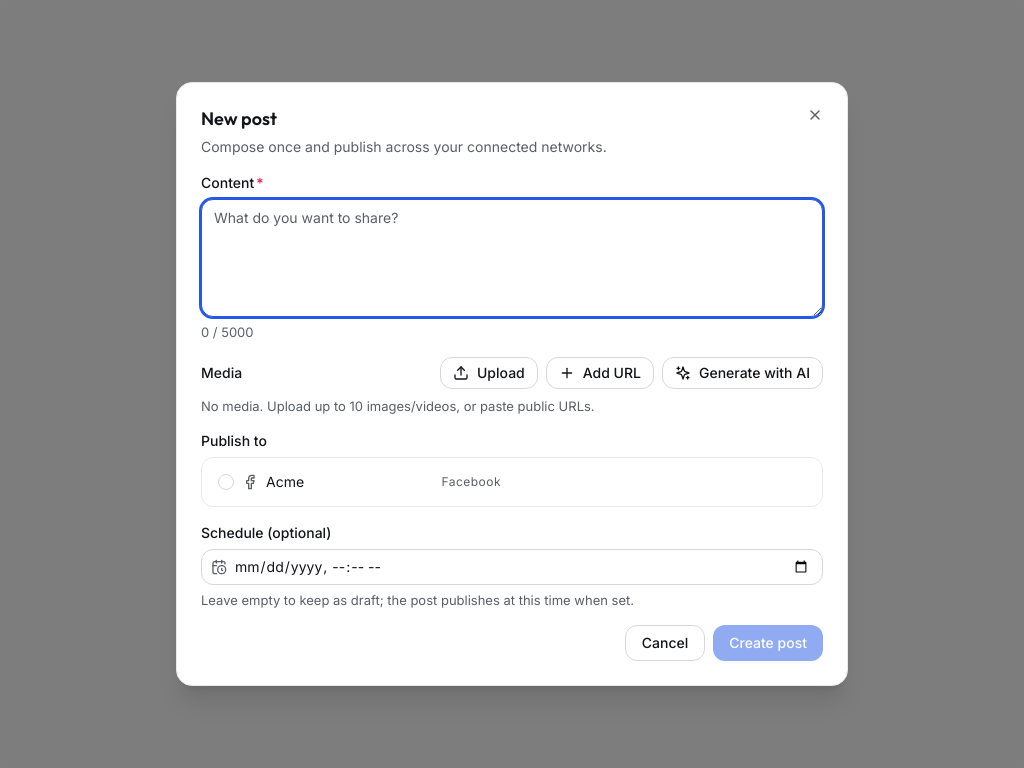
PostComposerDialog AI generate › generating in the AI panel appends a READY asset to the media list
Click the button "Generate with AI" at (742, 373), box [662, 357, 823, 389]
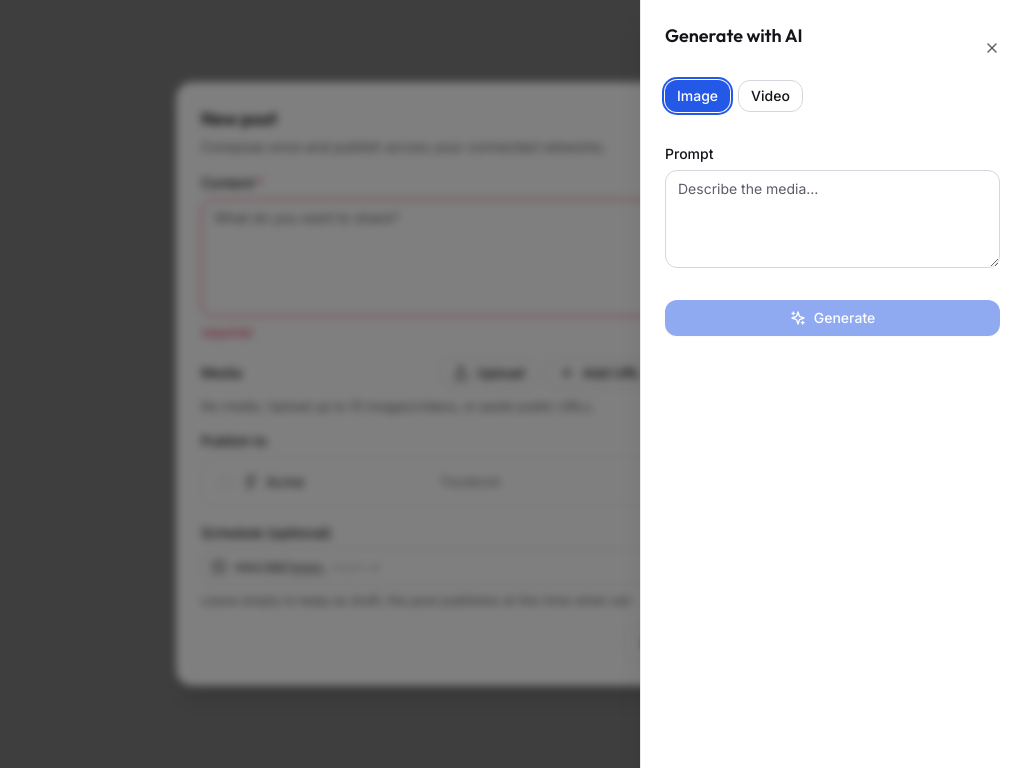
Type "a sunset" into the text box labelled "Prompt" at (832, 219), box [665, 170, 1000, 268]
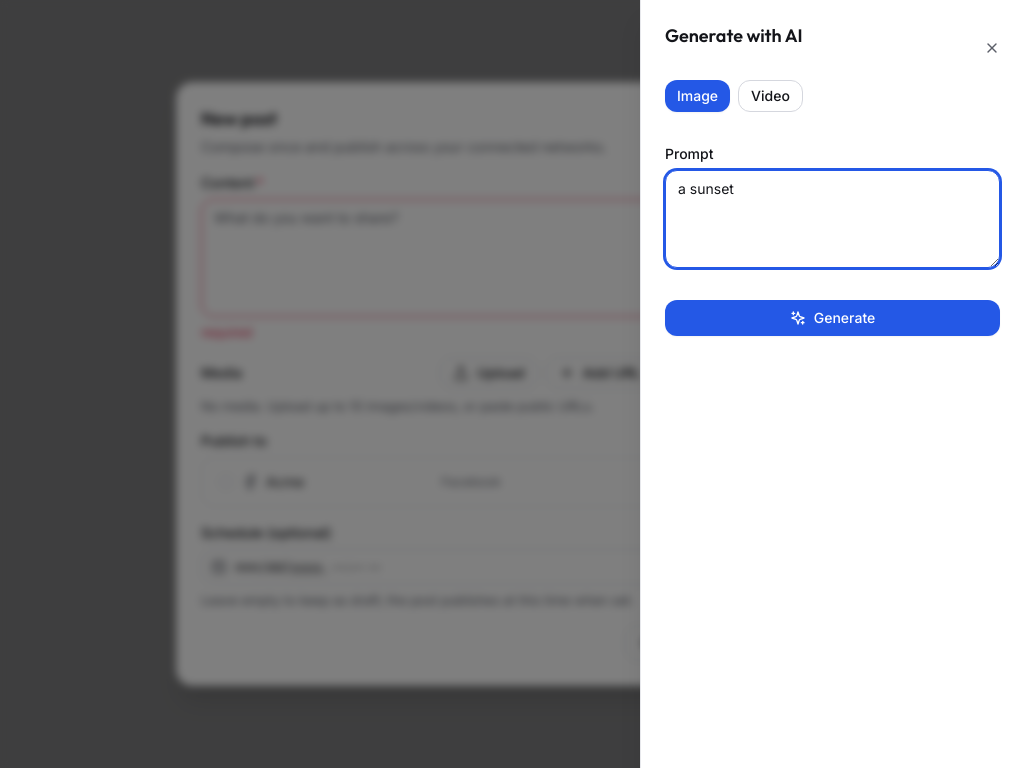
Click the button "Generate" at (832, 318), box [665, 300, 1000, 336]
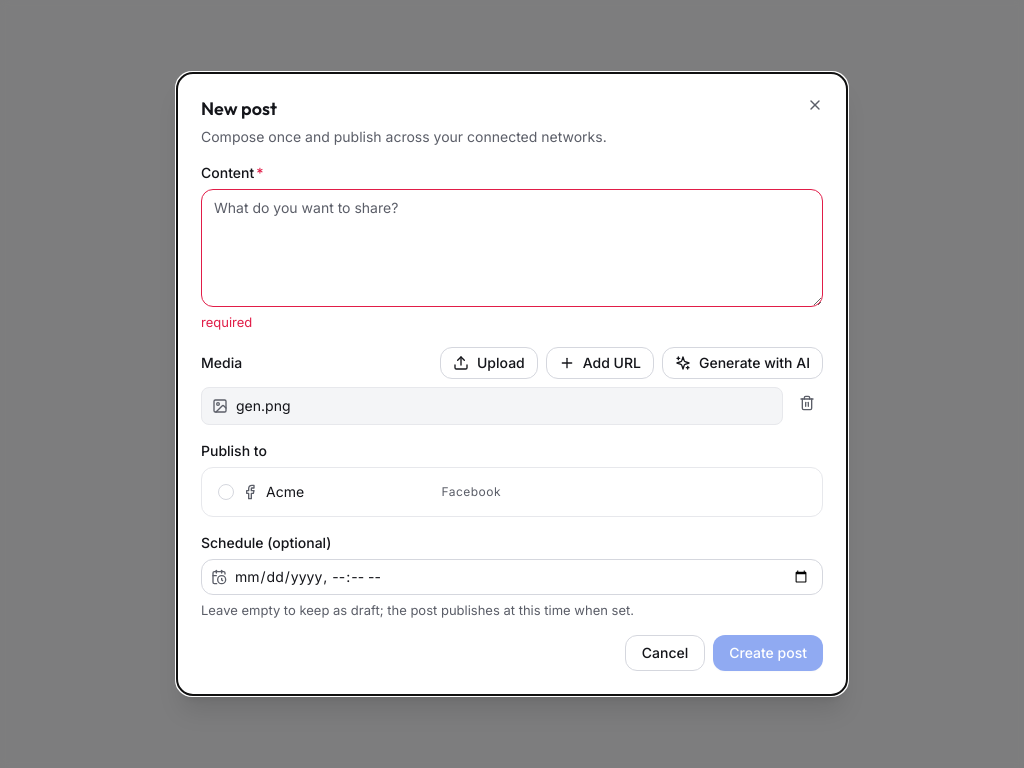
Expected: the text "gen.png" is shown, [236, 396, 290, 416]
